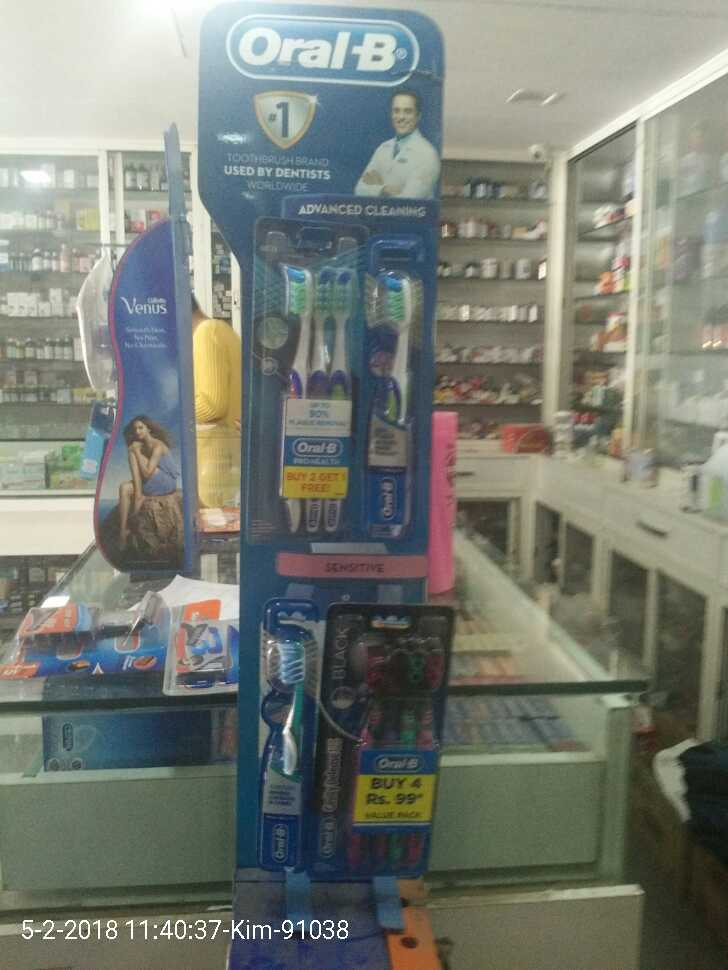oralb: (341, 622, 448, 878), (264, 256, 356, 541), (371, 267, 429, 540), (259, 626, 314, 884)
